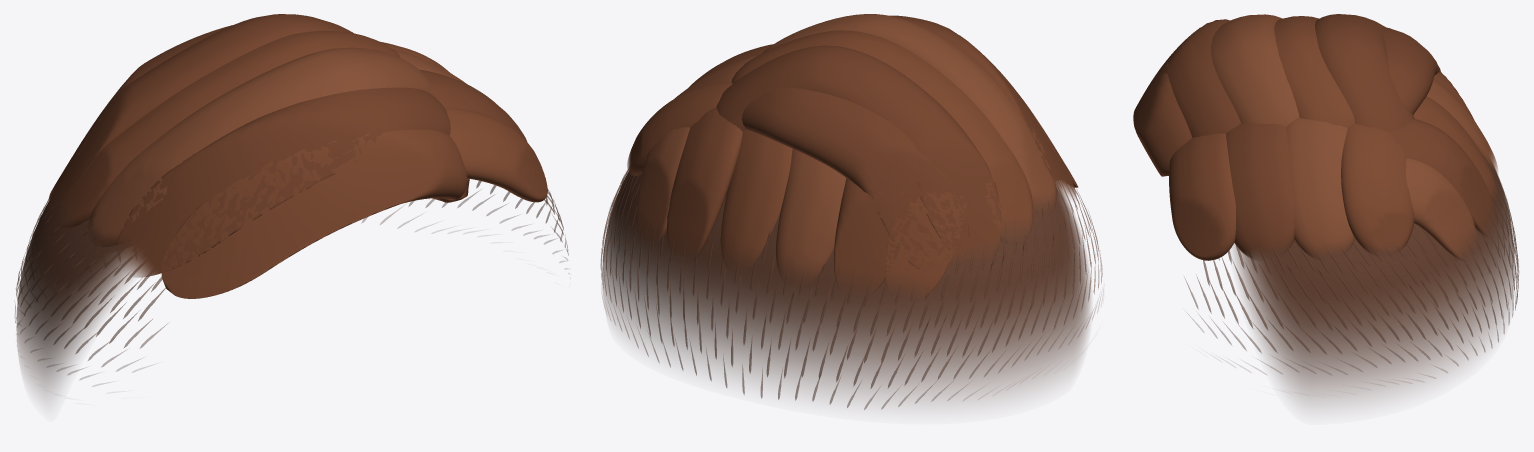
File: Masculine-taper-beanie259-hair.glb
The picture shows the model from 3 angles, left to right: view 1: azimuth 30°, elevation 25°; view 2: azimuth 150°, elevation 25°; view 3: azimuth 270°, elevation 25°; orthographic projection. The views are drawn at different scales.
Parts seen in each view (by area): view 1: 226 hair / Hair258 / sculpted side sweep 1, 226 hair / Hair258 / sculpted side sweep 0, 226 hair / Hair258 / sculpted side sweep 2, 226 hair / Hair258 / smooth side fade, 226 hair / Hair259 / directional fade marks214; view 2: 226 hair / Hair258 / smooth side fade, 226 hair / Hair258 / sculpted side sweep 0, 226 hair / Hair258 / sculpted side sweep 1, 226 hair / Hair258 / sculpted side sweep 2, 226 hair / Hair259 / directional fade marks214; view 3: 226 hair / Hair258 / smooth side fade, 226 hair / Hair258 / sculpted side sweep 0, 226 hair / Hair258 / sculpted side sweep 1, 226 hair / Hair258 / sculpted side sweep 2, 226 hair / Hair259 / directional fade marks214.
Boxes of the visible parts, x1=… form: 226 hair / Hair258 / sculpted side sweep 1: x1=49, y1=31, x2=547, y2=298; 226 hair / Hair258 / sculpted side sweep 0: x1=47, y1=14, x2=527, y2=277; 226 hair / Hair258 / sculpted side sweep 2: x1=87, y1=47, x2=466, y2=247; 226 hair / Hair258 / smooth side fade: x1=16, y1=192, x2=547, y2=399; 226 hair / Hair259 / directional fade marks214: x1=15, y1=180, x2=569, y2=386; 226 hair / Hair258 / smooth side fade: x1=602, y1=169, x2=1090, y2=404; 226 hair / Hair258 / sculpted side sweep 0: x1=667, y1=15, x2=1076, y2=294; 226 hair / Hair258 / sculpted side sweep 1: x1=627, y1=30, x2=1078, y2=299; 226 hair / Hair258 / sculpted side sweep 2: x1=637, y1=14, x2=1056, y2=284; 226 hair / Hair259 / directional fade marks214: x1=600, y1=167, x2=1103, y2=409; 226 hair / Hair258 / smooth side fade: x1=1233, y1=153, x2=1514, y2=405; 226 hair / Hair258 / sculpted side sweep 0: x1=1157, y1=14, x2=1495, y2=260; 226 hair / Hair258 / sculpted side sweep 1: x1=1133, y1=16, x2=1498, y2=260; 226 hair / Hair258 / sculpted side sweep 2: x1=1211, y1=14, x2=1497, y2=260; 226 hair / Hair259 / directional fade marks214: x1=1185, y1=162, x2=1519, y2=381.
Bounding box in the file's own units: 0.9743 × 0.6474 × 0.7443.
